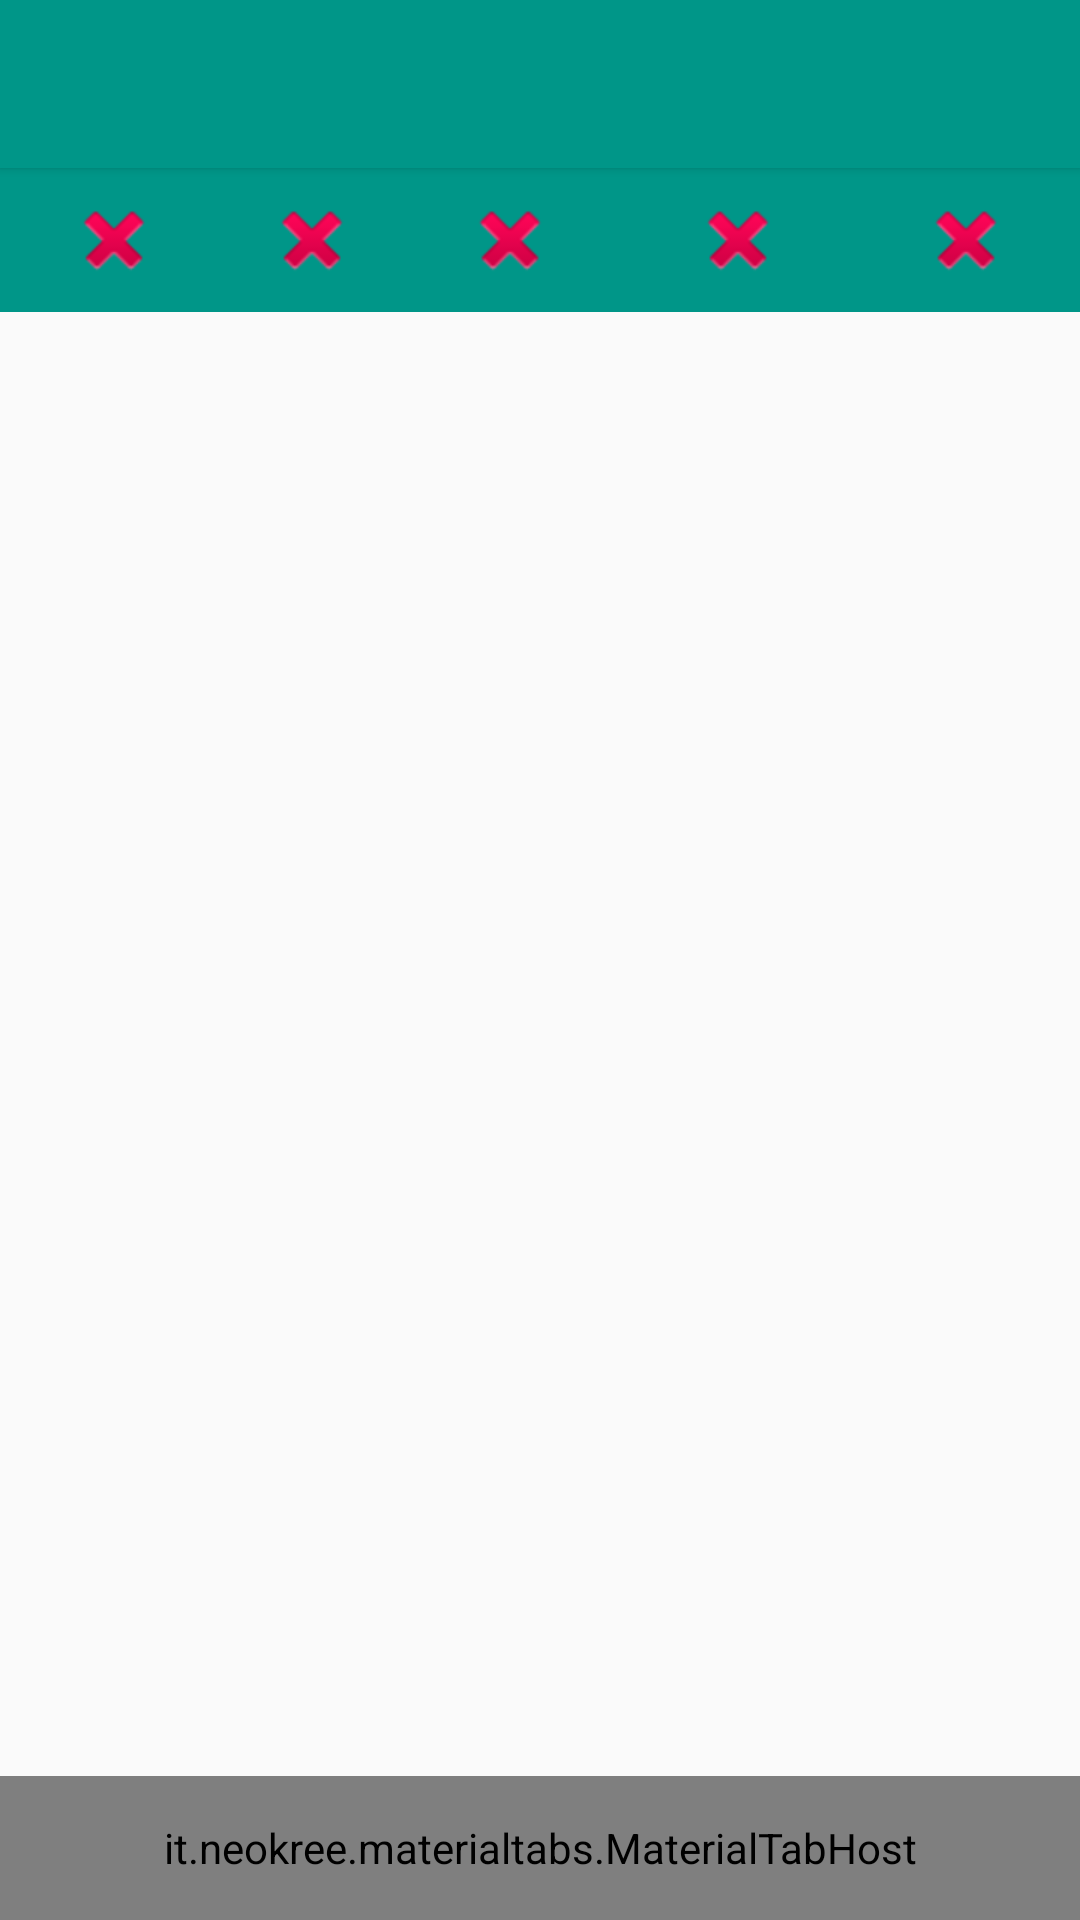

Named icons in this screenshot (1080 x 1920) and their bounding boxes, region(x1, y1, x2, y2):
delete: region(83, 211, 145, 270), region(281, 211, 343, 270), region(479, 211, 541, 270), region(707, 211, 769, 270), region(935, 211, 997, 270)
